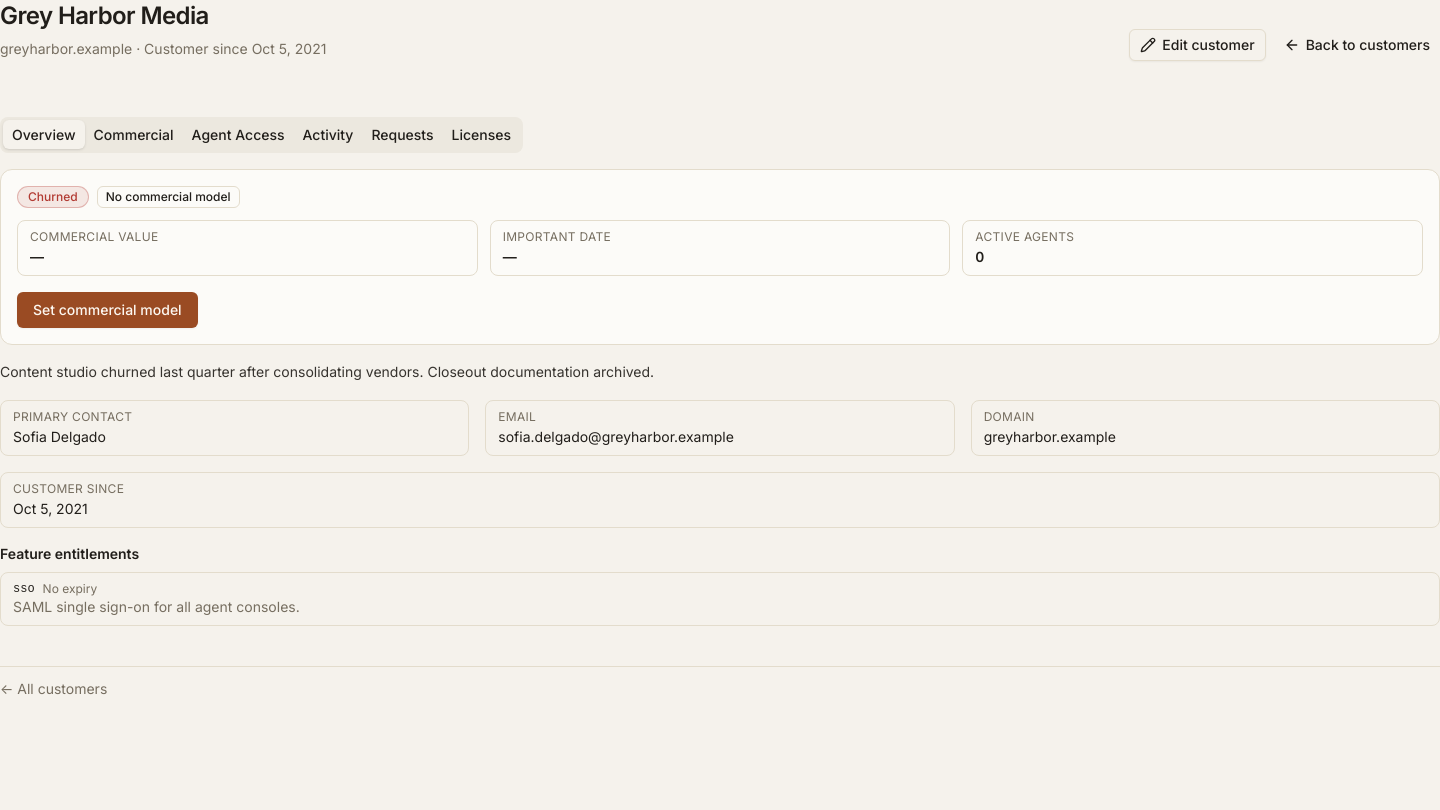
Test case: CustomerProfilePage › opens a read-only record dialog from history
Click the tab with test id "tab-commercial".
click(134, 135)  # box [84,120,182,149]
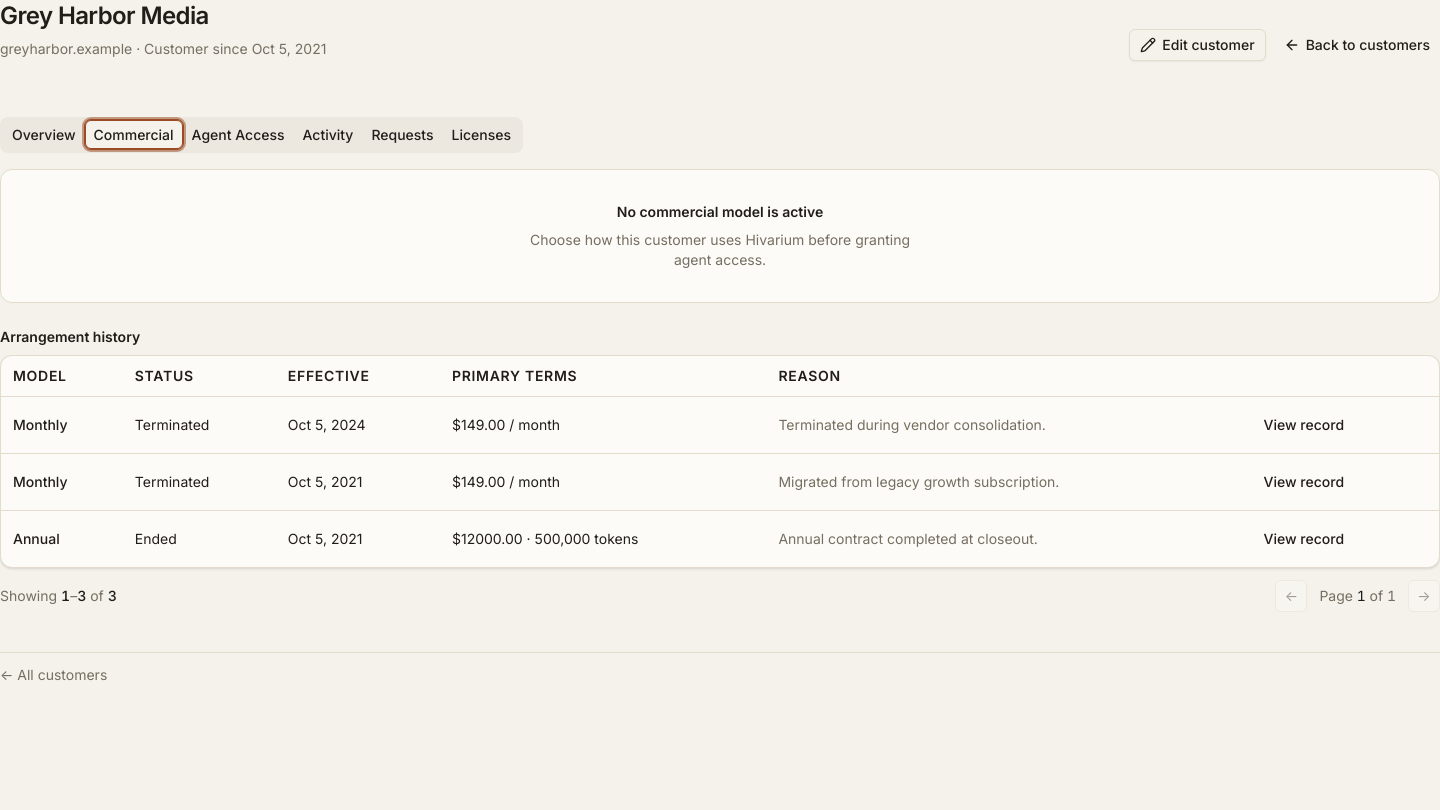
Click the button with test id "view-record-arr_greyharbor_annual".
click(1304, 539)  # box [1252,523,1356,555]
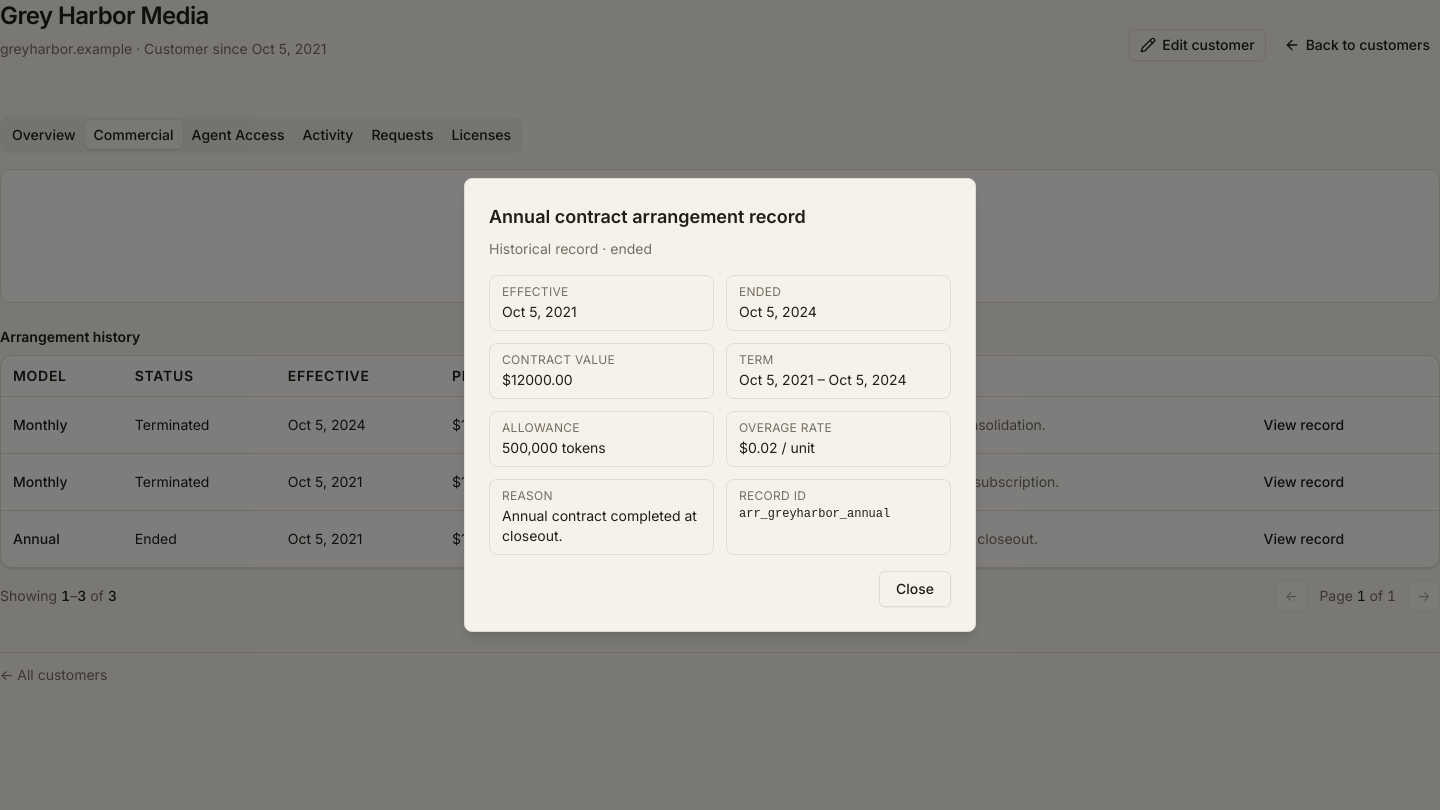
Now the dialog with test id "arrangement-record-dialog" shows "Annual contract arrangement record", box [464,178,976,632]
Now the dialog with test id "arrangement-record-dialog" shows "$12000.00", box [502,371,573,388]
Now the dialog with test id "arrangement-record-dialog" shows "500,000 tokens", box [502,439,606,456]
